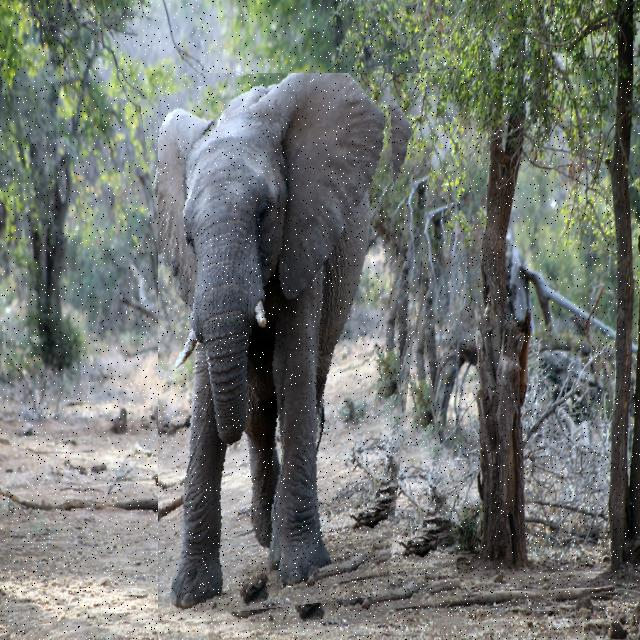elephant: (158, 73, 444, 627)
